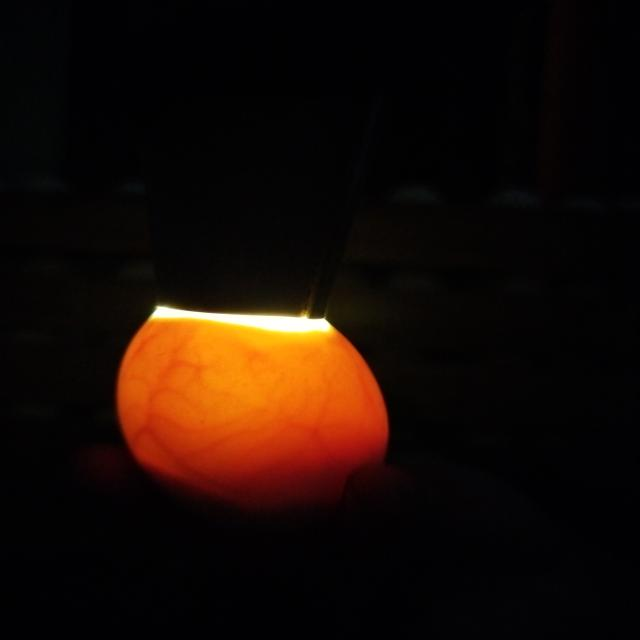Embriao: (137, 456, 388, 541)
